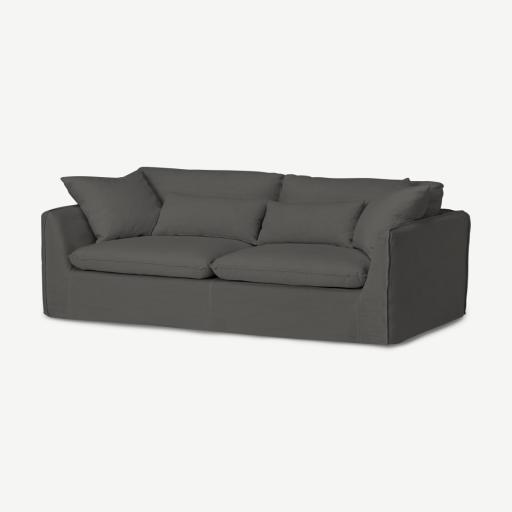back_cushion: (61, 168, 442, 252)
base: (49, 269, 358, 340)
left_arm: (360, 211, 470, 344)
right_arm: (41, 206, 95, 318)
seat_cushion: (70, 237, 369, 287)
two-seater: (0, 0, 511, 512)
